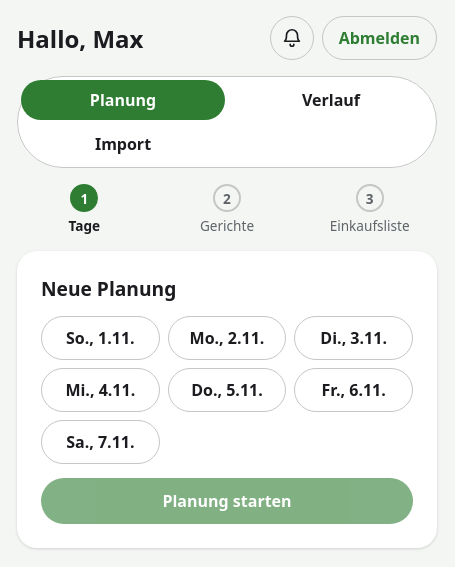
it: notifications switch › turns off: unsubscribes the phone and tells the server to forget it
The image size is (455, 567).
Click the button named "Benachrichtigungen aus".
click(292, 38)  # box 270,16 -> 314,60
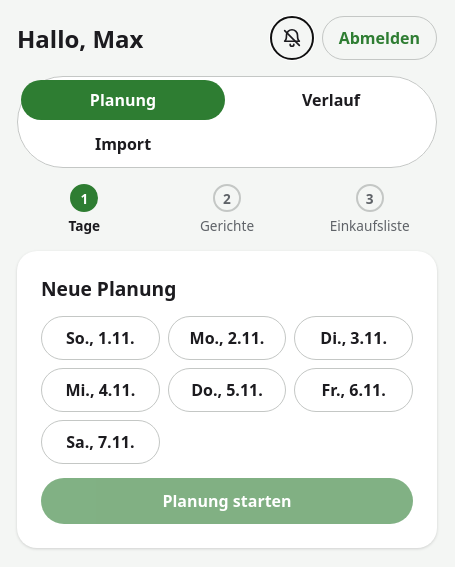
Check: the button named "Benachrichtigungen an" is shown, box 270,16 -> 314,60
